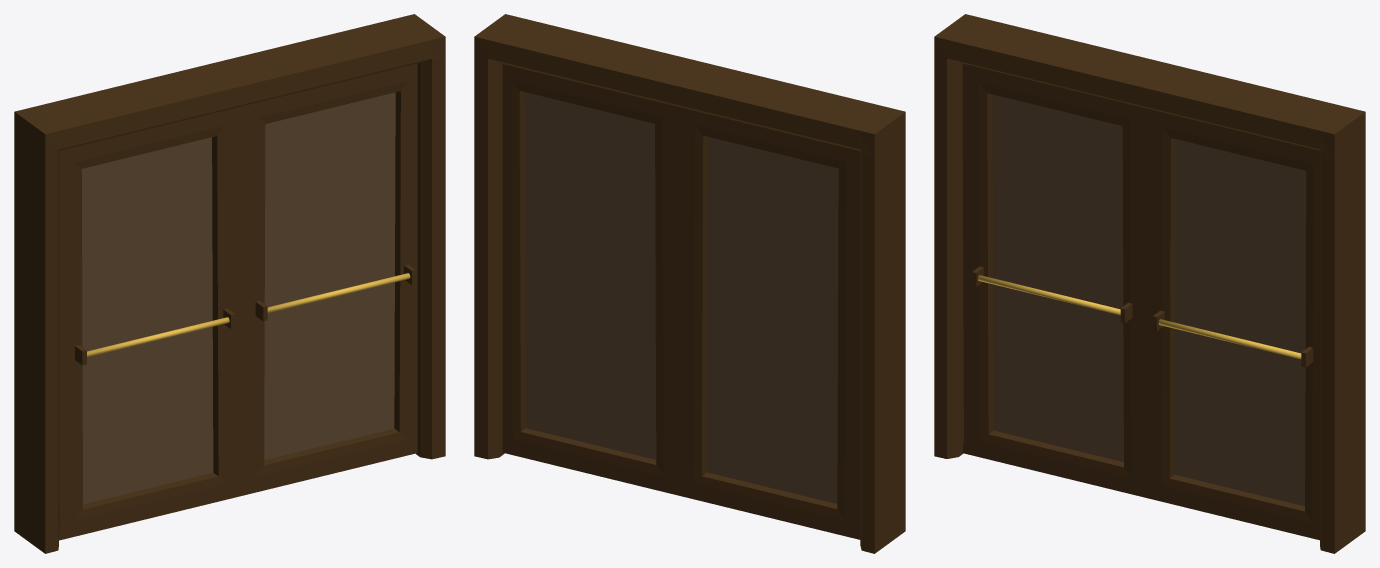
The model's file is door.fbx.
The picture shows the model from 3 angles, left to right: view 1: azimuth 30°, elevation 25°; view 2: azimuth 150°, elevation 25°; view 3: azimuth 330°, elevation 25°; orthographic projection.
Parts seen in each view (by area): view 1: Door Left, Door Right, Frame; view 2: Door Left, Door Right, Frame; view 3: Door Left, Door Right, Frame.
Part boxes in pixels (x1=…): Door Left: x1=59, y1=106, x2=242, y2=540; Door Right: x1=239, y1=63, x2=417, y2=495; Frame: x1=14, y1=14, x2=445, y2=553; Door Left: x1=676, y1=107, x2=860, y2=539; Door Right: x1=502, y1=64, x2=680, y2=495; Frame: x1=474, y1=14, x2=905, y2=553; Door Left: x1=962, y1=63, x2=1148, y2=497; Door Right: x1=1144, y1=108, x2=1319, y2=540; Frame: x1=934, y1=14, x2=1365, y2=553.
Bounding box in the file's own units: 284 × 285 × 38.54.
